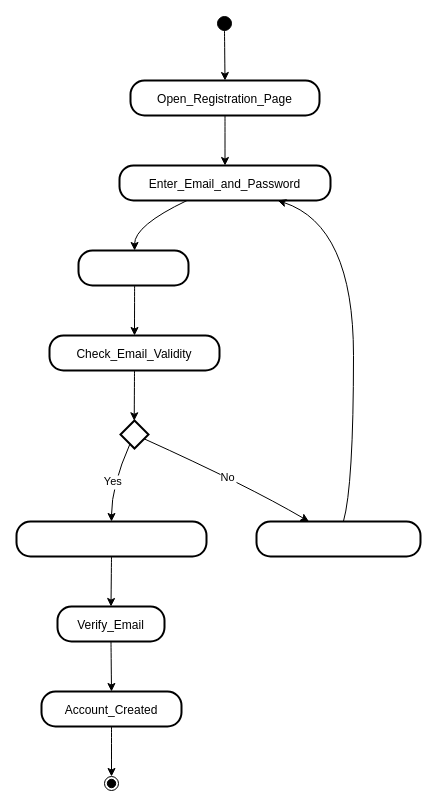
Some shapes in this 437 by 807 pixel diagram are drawn without their labels. The box of each missing label's shape, as (x1, y1, x2, y2) in pixels:
Send_Verification_Email: (15, 520, 207, 557)
Show_Error_Message: (255, 520, 421, 557)
Submit_Form: (77, 249, 189, 286)
